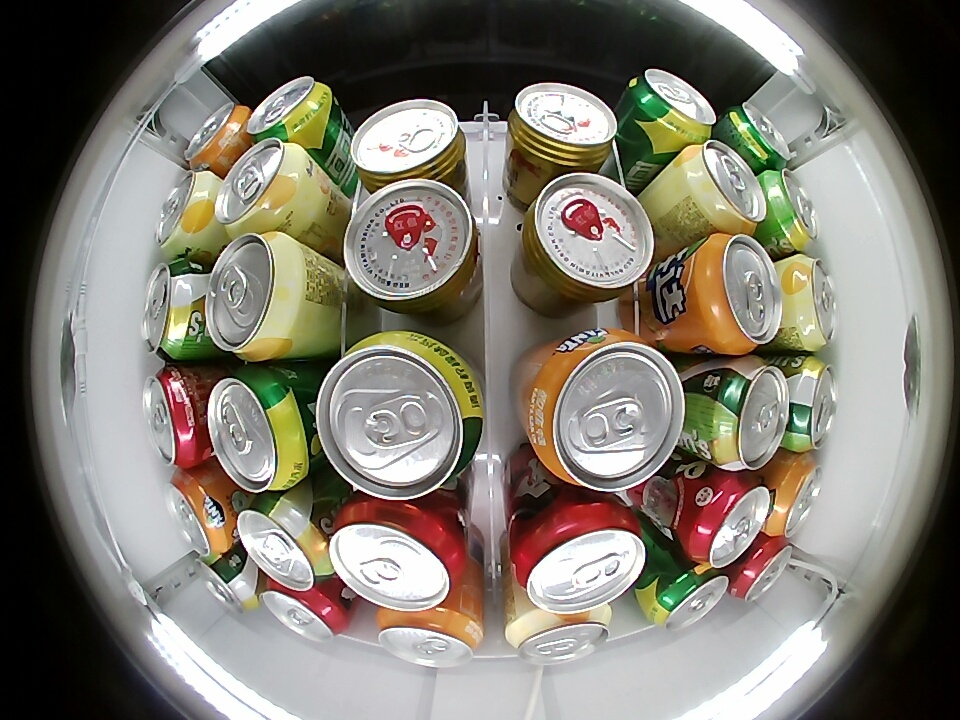fenda: (524, 330, 687, 493), (691, 234, 783, 356), (376, 605, 484, 669), (164, 469, 233, 558), (764, 452, 823, 538), (185, 101, 249, 171)
hongniu: (344, 178, 481, 312), (520, 172, 655, 302)
hongniu2: (351, 99, 466, 189), (507, 82, 617, 171)
kele: (508, 503, 647, 615), (329, 499, 467, 611), (685, 473, 770, 567), (142, 365, 205, 468), (261, 577, 347, 642), (731, 538, 794, 602)
mangguoxiaolao: (206, 231, 310, 361), (215, 136, 314, 233), (679, 141, 765, 234), (505, 604, 612, 665), (155, 171, 217, 256), (784, 254, 838, 350)
quchenshixiangcao: (236, 494, 334, 592), (707, 356, 790, 471), (141, 260, 200, 360), (761, 168, 820, 253), (788, 356, 838, 451), (196, 554, 261, 614)
xuebi2: (315, 331, 485, 500), (208, 366, 312, 493), (624, 69, 716, 147), (247, 76, 337, 143), (643, 563, 728, 630), (721, 102, 791, 172)
